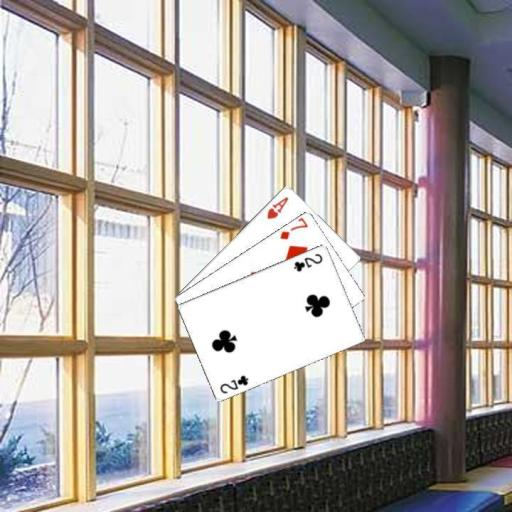card-corner: (277, 215, 309, 241), (291, 250, 324, 273), (217, 372, 250, 395), (264, 194, 290, 220)
